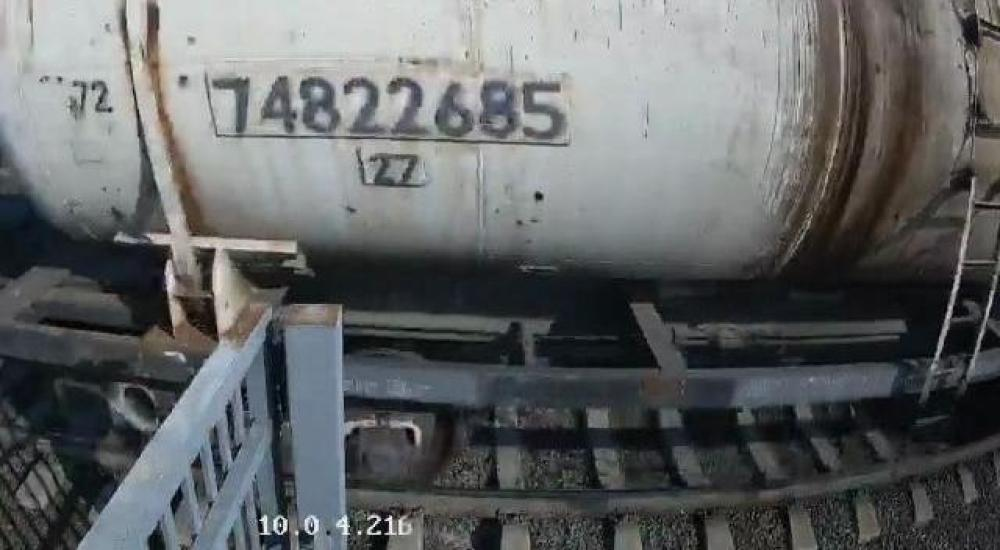Wagon-number: (207, 73, 567, 144)
